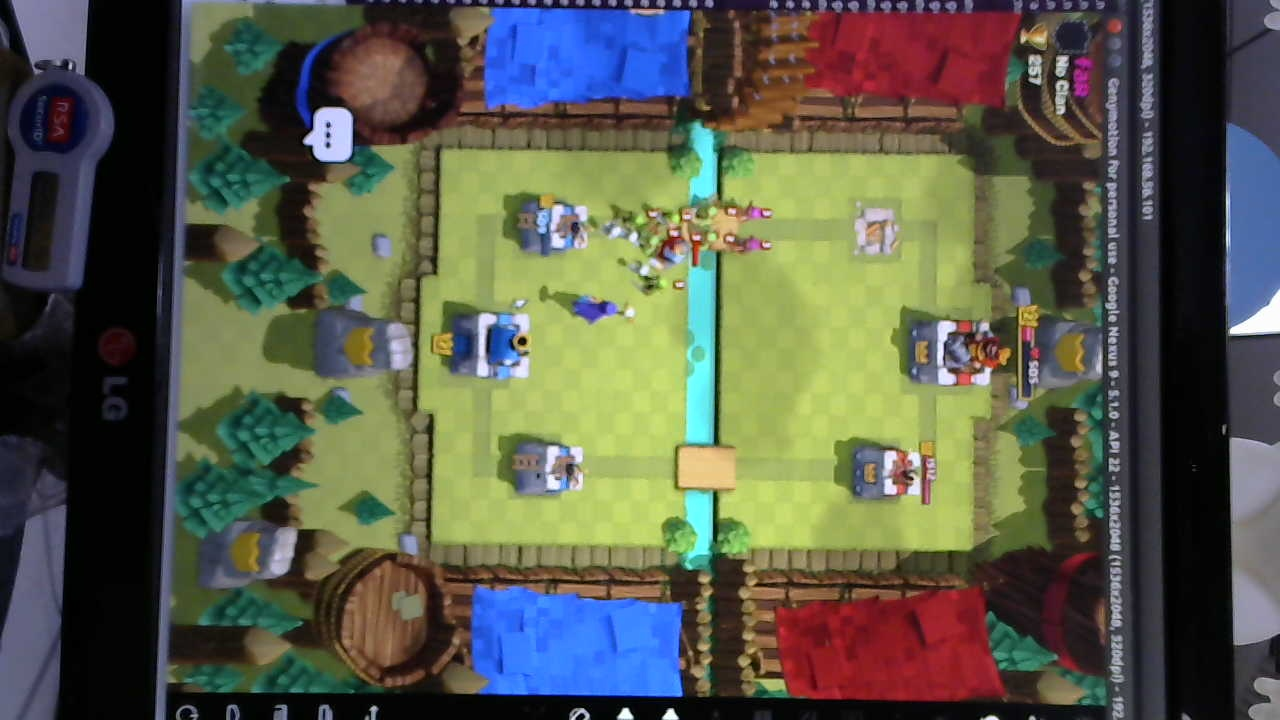archers: (735, 201, 771, 260)
arena: (507, 432, 587, 502), (514, 194, 590, 258)
darena: (844, 197, 904, 263)
earena: (851, 441, 925, 505)
eking: (897, 315, 1011, 391)
goblin: (637, 273, 673, 299)
goblins: (621, 204, 679, 249)
king: (447, 308, 536, 383)
knight: (657, 232, 697, 264)
skeleton: (601, 222, 652, 278)
speargoblins: (692, 201, 726, 260)
witch: (571, 292, 637, 329)
